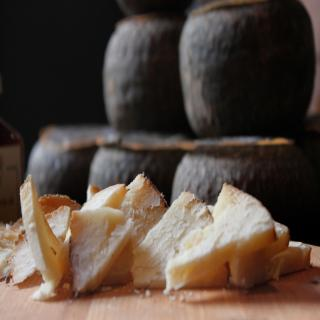Cheese: (0, 170, 313, 300)
